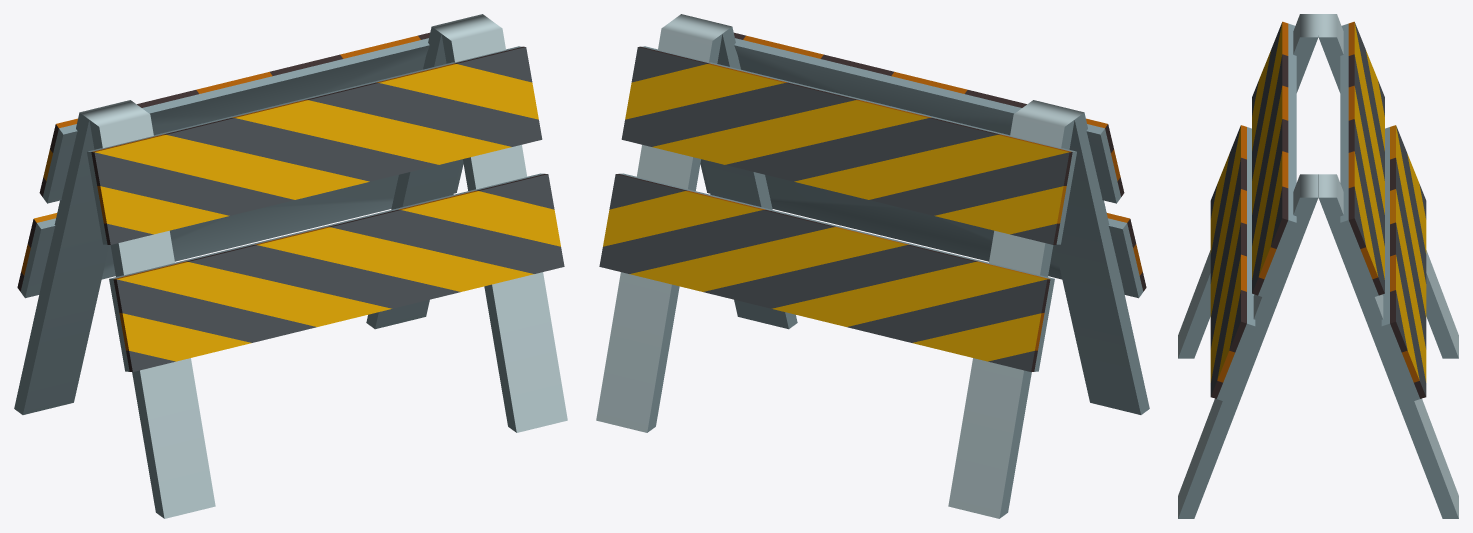
The model's file is RoadworkSign_Regular.fbx.
The picture shows the model from 3 angles, left to right: view 1: azimuth 30°, elevation 25°; view 2: azimuth 150°, elevation 25°; view 3: azimuth 270°, elevation 25°; orthographic projection. The views are drawn at different scales.
Parts seen in each view (by area): view 1: RoadworkSign_Regular; view 2: RoadworkSign_Regular; view 3: RoadworkSign_Regular.
Part boxes in pixels (x1,y1,x2,y2): RoadworkSign_Regular: [14, 14, 567, 518]; RoadworkSign_Regular: [596, 14, 1149, 518]; RoadworkSign_Regular: [1178, 14, 1458, 518].
Bounding box in the file's own units: 139 × 106 × 84.14.
